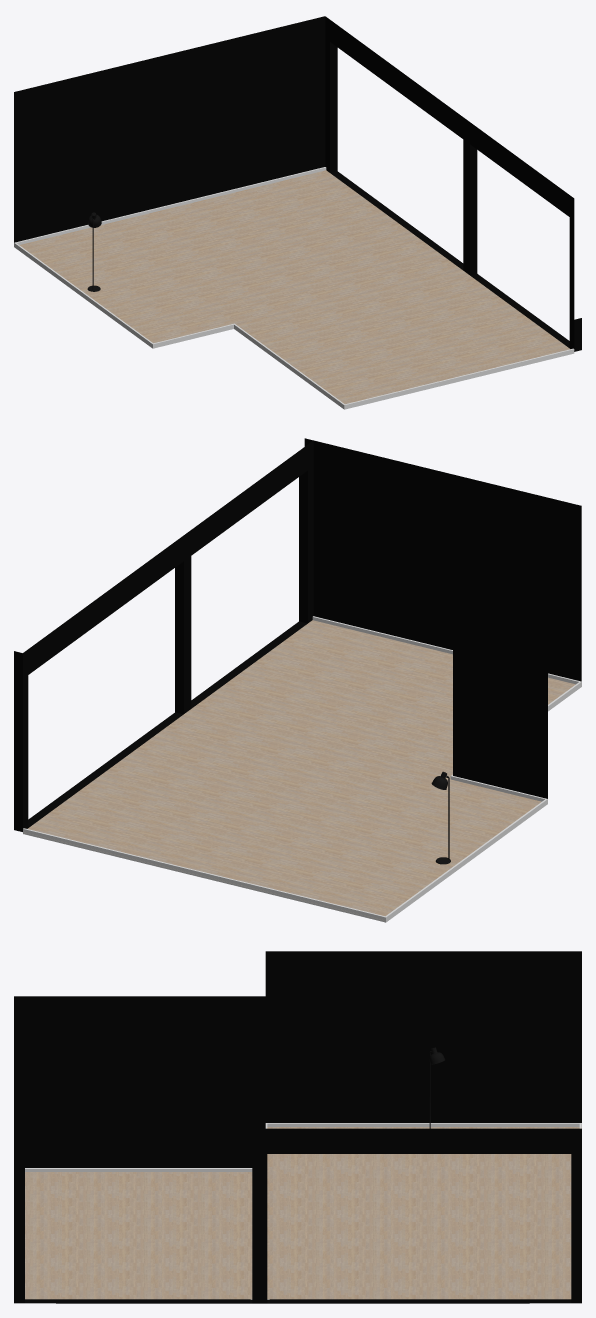
File: aroom3.glb
The picture shows the model from 3 angles, top to bottom: view 1: azimuth 30°, elevation 25°; view 2: azimuth 150°, elevation 25°; view 3: azimuth 270°, elevation 25°; orthographic projection. The views are drawn at different scales.
Parts seen in each view (by area): view 1: Floor, Wall, Frame; view 2: Floor, Wall, Frame; view 3: Wall, Floor, Frame.
Part boxes in pixels (left/top/right/bottom): Floor: left=19, top=170, right=570, bottom=404; Wall: left=14, top=16, right=581, bottom=351; Frame: left=14, top=167, right=574, bottom=409; Floor: left=27, top=620, right=575, bottom=916; Wall: left=14, top=438, right=581, bottom=831; Frame: left=23, top=616, right=581, bottom=922; Wall: left=14, top=951, right=581, bottom=1303; Floor: left=25, top=1127, right=581, bottom=1299; Frame: left=25, top=1123, right=581, bottom=1171.
Bounding box in the file's own units: 7.01 × 3.26 × 9.48.
4 materials, 2 textured.
